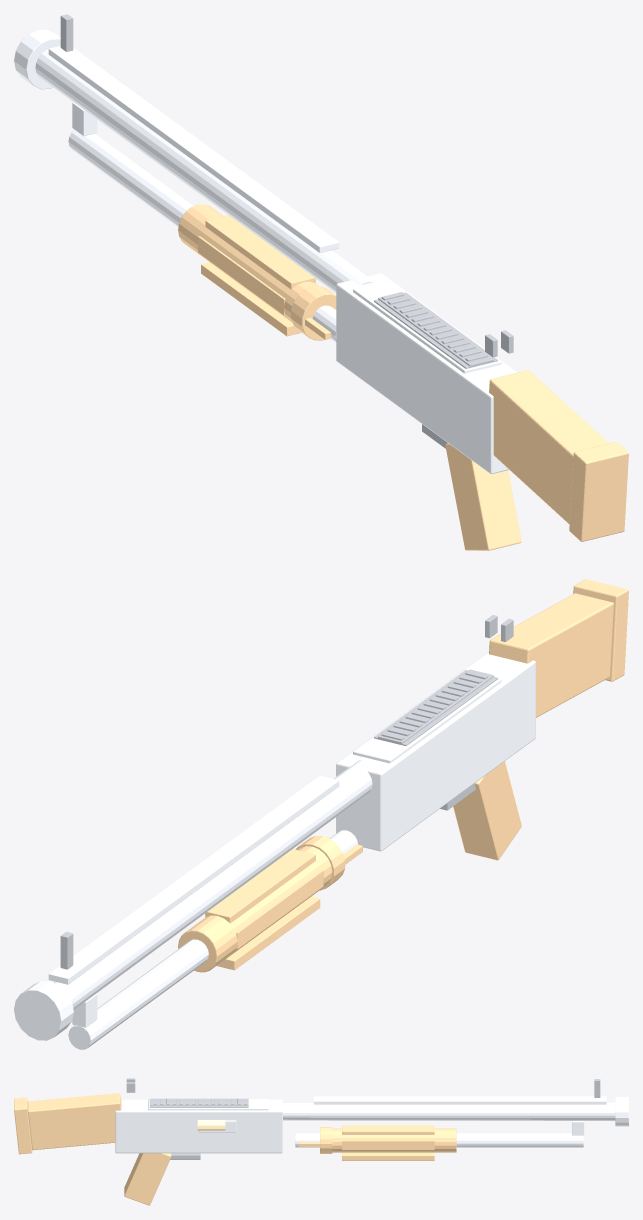
Rendered from win1897.glb.
3 renders of one model, top to bottom at view 1: azimuth 30°, elevation 25°; view 2: azimuth 150°, elevation 25°; view 3: azimuth 270°, elevation 25°, orthographic. The views are drawn at different scales.
Parts seen in each view (by area): view 1: BarrelAssembly, Receiver, PumpForend, StockGrip, Grip, StockGripPlate, TopRail, StockIrons; view 2: BarrelAssembly, Receiver, PumpForend, StockGrip, Grip, TopRail, StockGripPlate, StockIrons; view 3: BarrelAssembly, Receiver, PumpForend, StockGrip, Grip, TopRail, StockGripPlate, EjectShell, StockIrons, TriggerGuard.
Boxes of the visible parts, x1=… form: BarrelAssembly: x1=14, y1=29, x2=374, y2=342; Receiver: x1=336, y1=273, x2=516, y2=474; PumpForend: x1=178, y1=204, x2=336, y2=340; StockGrip: x1=489, y1=370, x2=608, y2=524; Grip: x1=445, y1=443, x2=521, y2=550; StockGripPlate: x1=569, y1=442, x2=628, y2=541; TopRail: x1=374, y1=292, x2=497, y2=368; StockIrons: x1=60, y1=14, x2=513, y2=357; BarrelAssembly: x1=14, y1=759, x2=374, y2=1049; Receiver: x1=336, y1=652, x2=535, y2=851; PumpForend: x1=178, y1=836, x2=362, y2=972; StockGrip: x1=489, y1=593, x2=613, y2=717; Grip: x1=453, y1=761, x2=521, y2=860; TopRail: x1=374, y1=669, x2=497, y2=745; StockGripPlate: x1=573, y1=579, x2=628, y2=681; StockIrons: x1=60, y1=615, x2=513, y2=969; BarrelAssembly: x1=273, y1=1096, x2=628, y2=1147; Receiver: x1=115, y1=1099, x2=282, y2=1153; PumpForend: x1=298, y1=1125, x2=456, y2=1160; StockGrip: x1=28, y1=1093, x2=121, y2=1150; Grip: x1=124, y1=1153, x2=171, y2=1205; TopRail: x1=149, y1=1098, x2=248, y2=1107; StockGripPlate: x1=14, y1=1097, x2=32, y2=1154; EjectShell: x1=197, y1=1120, x2=225, y2=1130; StockIrons: x1=126, y1=1078, x2=600, y2=1097; TriggerGuard: x1=170, y1=1153, x2=200, y2=1159.
Size of the model in its own units: 0.0576 by 0.2166 by 0.9914.
